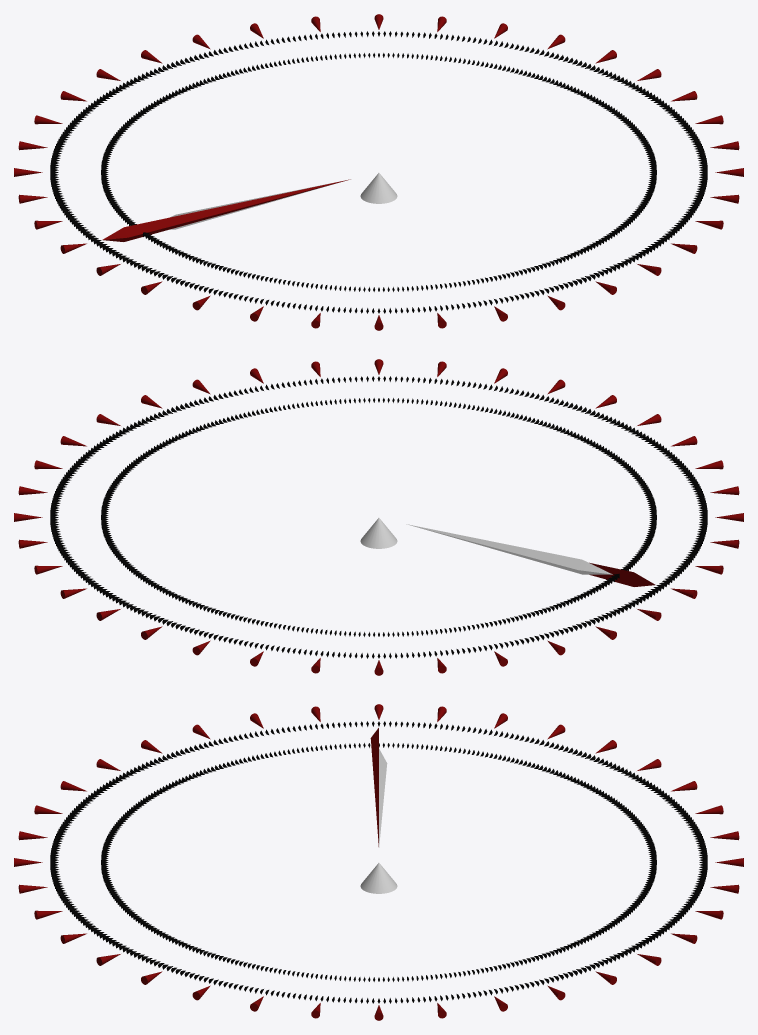
Rendered from RotationIndicator.fbx.
The picture shows the model from 3 angles, top to bottom: view 1: azimuth 30°, elevation 25°; view 2: azimuth 150°, elevation 25°; view 3: azimuth 270°, elevation 25°; orthographic projection.
Visible parts, largest first — view 1: Ones_Mesh, Tenths_Mesh, Pointer_Int, CenterPoint_Mesh, Pointer_Float; view 2: Ones_Mesh, Tenths_Mesh, Pointer_Float, CenterPoint_Mesh, Pointer_Int; view 3: Ones_Mesh, Tenths_Mesh, CenterPoint_Mesh, Pointer_Int.
Boxes of the visible parts, x1,y1,x2,y2 form: Ones_Mesh: (50, 31, 707, 313); Tenths_Mesh: (14, 14, 743, 330); Pointer_Int: (102, 179, 350, 241); CenterPoint_Mesh: (360, 173, 397, 203); Pointer_Float: (170, 179, 351, 229); Ones_Mesh: (50, 376, 707, 658); Tenths_Mesh: (14, 359, 743, 675); Pointer_Float: (406, 524, 612, 574); CenterPoint_Mesh: (360, 518, 397, 548); Pointer_Int: (589, 562, 655, 586); Ones_Mesh: (50, 721, 707, 1003); Tenths_Mesh: (14, 704, 743, 1020); CenterPoint_Mesh: (360, 863, 397, 893); Pointer_Int: (370, 728, 378, 846).
Bounding box in the file's own units: 0.4823 × 0.0227 × 0.4823.
